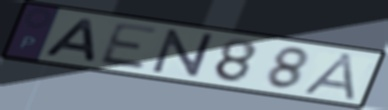8: (264, 46, 313, 91), (212, 38, 259, 84)
A: (298, 52, 361, 103), (39, 17, 98, 63)
E: (96, 21, 163, 71)
N: (149, 28, 216, 79)
